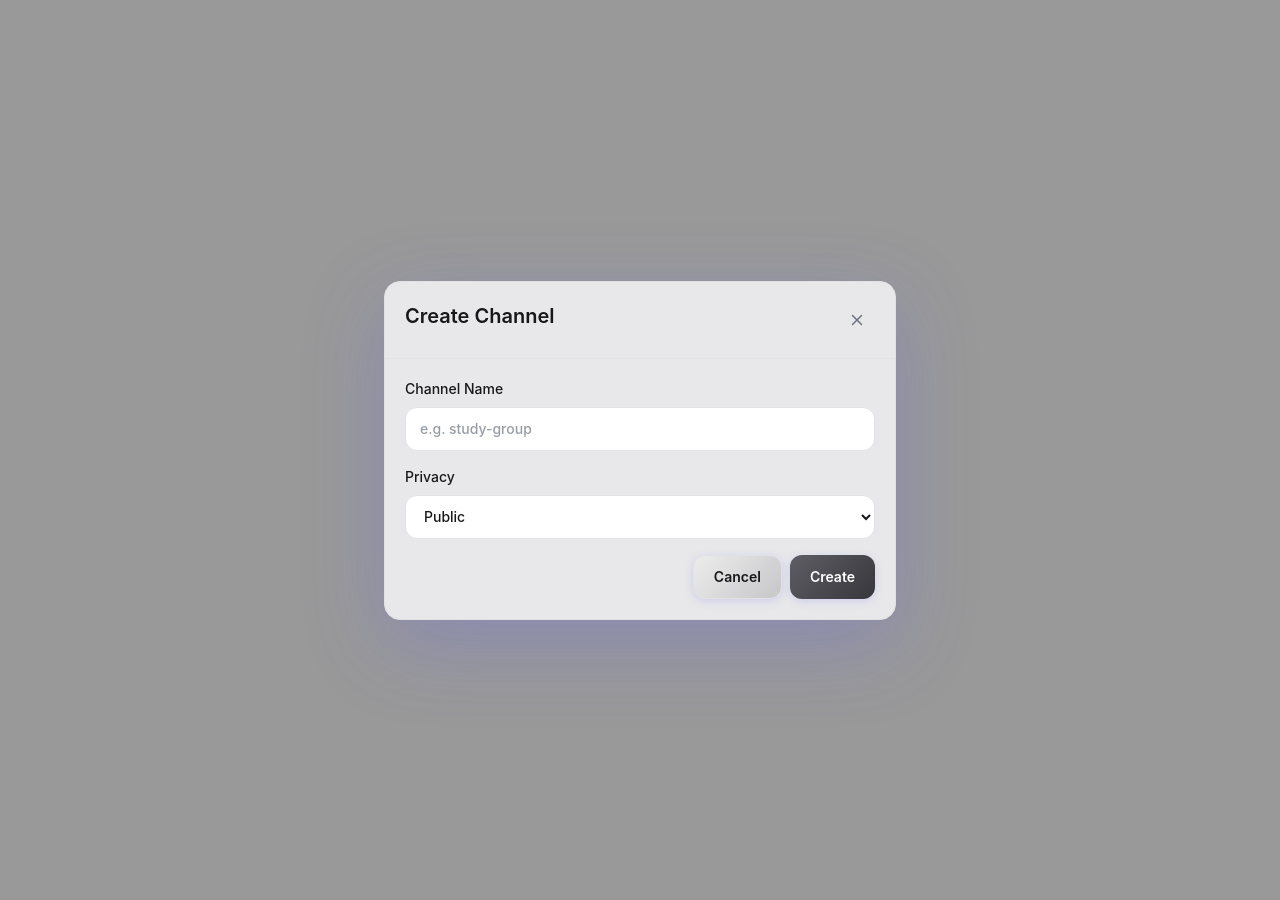
Scenario: CreateChannelModal › shows an error message when creation fails
Type "general" into the field labelled "Channel Name". click: point(640, 428)
box: [405,406,875,450]
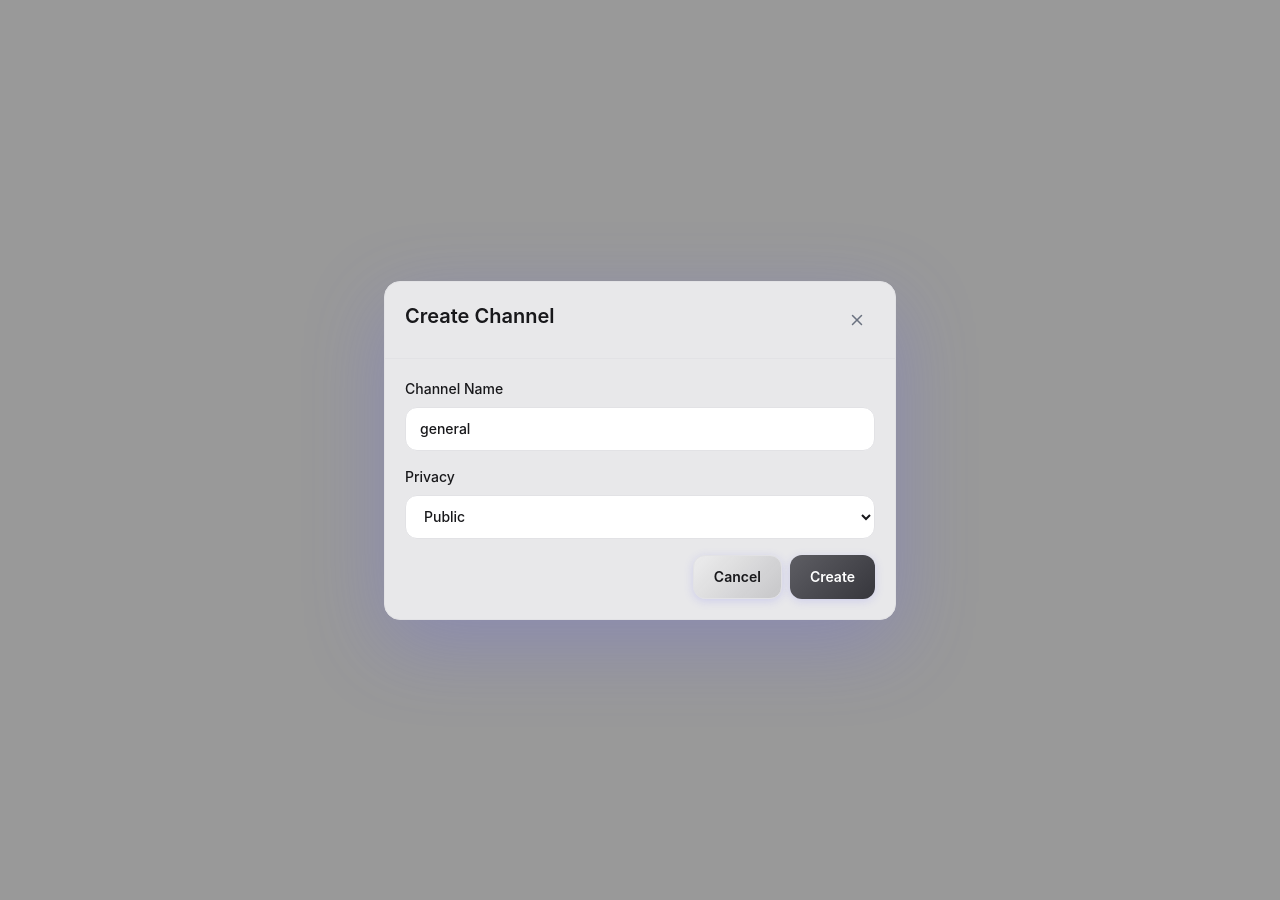
Click the button "Create". click: point(832, 576)
box: [790,554,875,598]
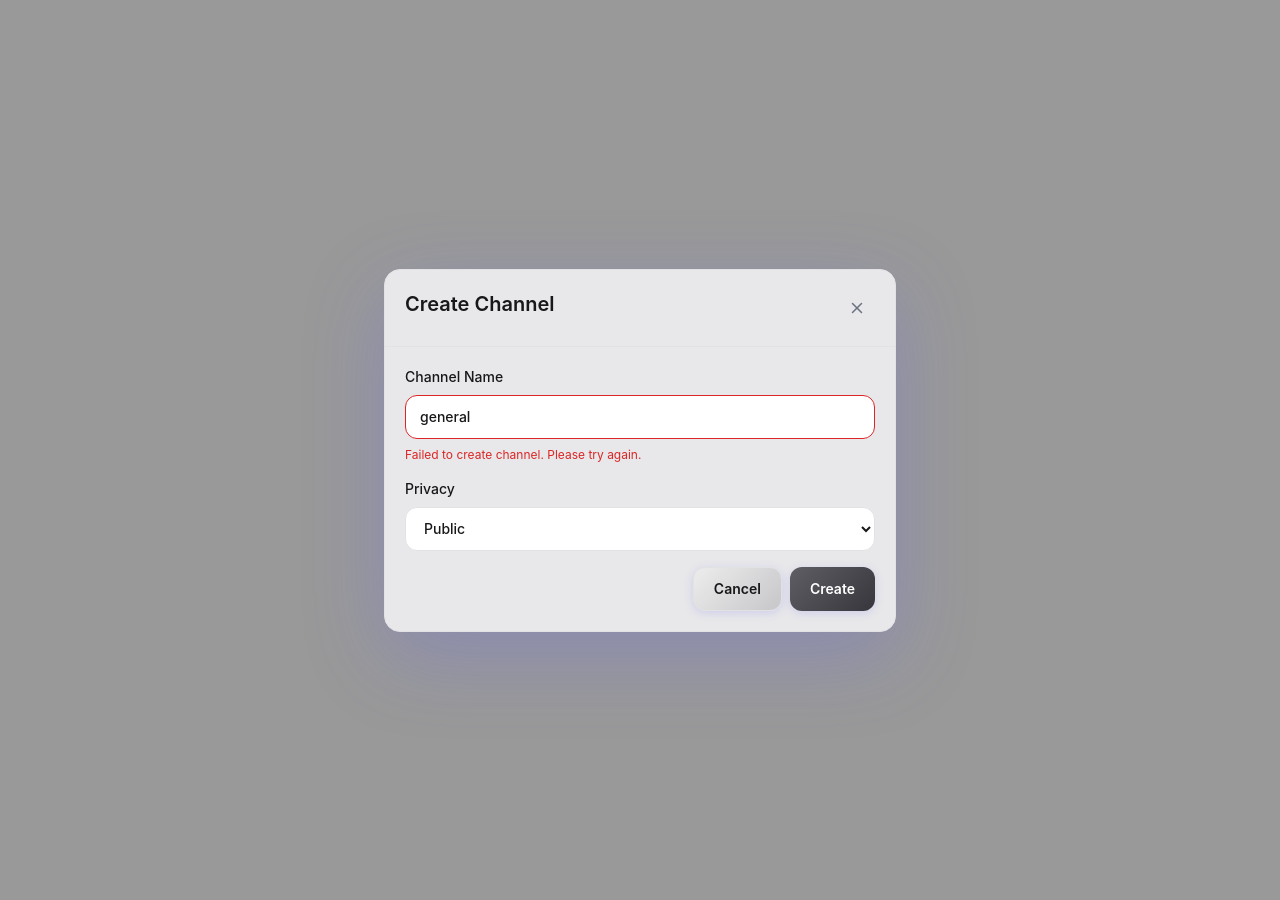
Now the text "Failed to create channel. Please try again." is shown, box [405,446,641,462]
